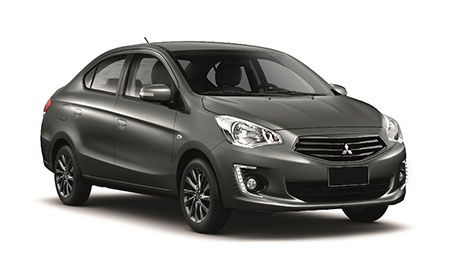sedan: (41, 39, 408, 235)
